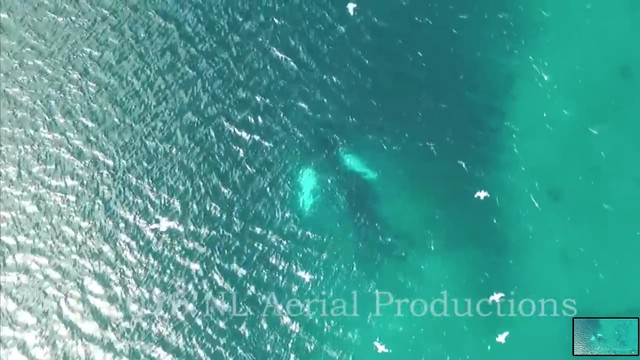whale: (286, 102, 409, 279)
